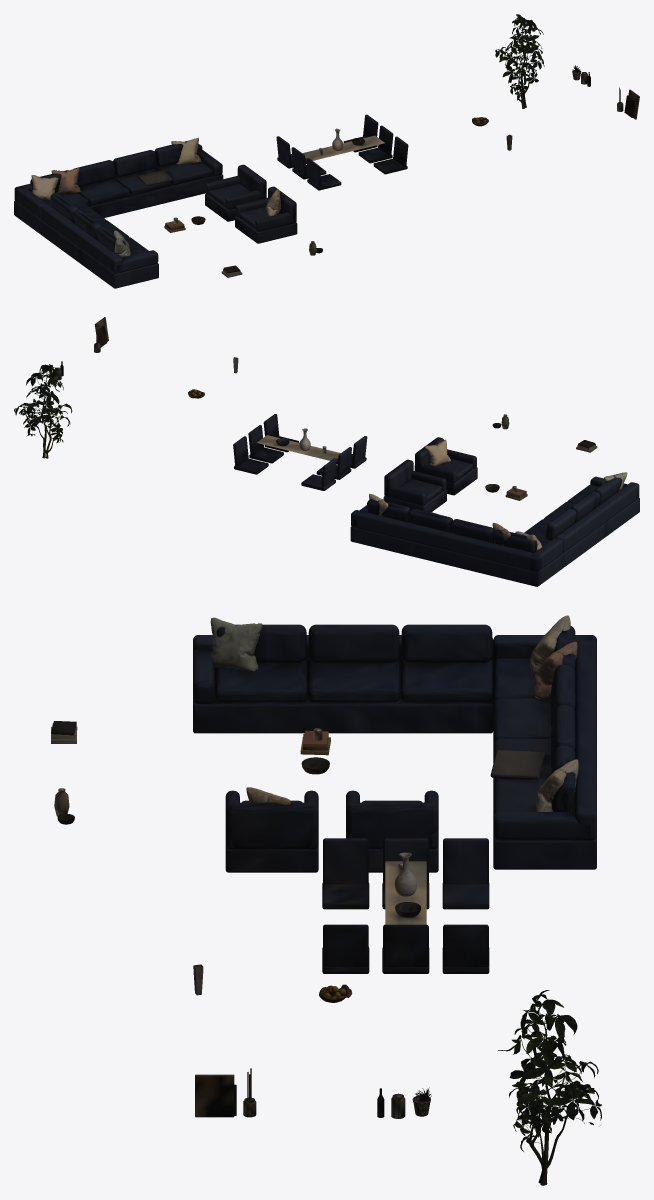
The model's file is decor-ldk.glb.
The picture shows the model from 3 angles, top to bottom: view 1: azimuth 30°, elevation 25°; view 2: azimuth 150°, elevation 25°; view 3: azimuth 270°, elevation 25°; orthographic projection. The views are drawn at different scales.
Visible parts, largest first — view 1: V|decor|ldk|wooden_bowl_01:a.004, V|decor|ldk|wooden_bowl_01:a.022, V|decor|ldk|wooden_bowl_01:a.003, V|decor|ldk|wooden_bowl_01:a.020; view 2: V|decor|ldk|wooden_bowl_01:a.004, V|decor|ldk|wooden_bowl_01:a.022, V|decor|ldk|wooden_bowl_01:a.003; view 3: V|decor|ldk|wooden_bowl_01:a.004, V|decor|ldk|wooden_bowl_01:a.022, V|decor|ldk|wooden_bowl_01:a.003, V|decor|ldk|wooden_bowl_01:a.021, V|decor|ldk|wooden_bowl_01:a.006, V|decor|ldk|wooden_bowl_01:a.011, V|decor|ldk|wooden_bowl_01:a.009, V|decor|ldk|wooden_bowl_01:a.008, V|decor|ldk|wooden_bowl_01:a.020, V|decor|ldk|wooden_bowl_01:a.001.
Boxes of the visible parts, x1=… form: V|decor|ldk|wooden_bowl_01:a.004: x1=14, y1=114, x2=408, y2=288; V|decor|ldk|wooden_bowl_01:a.022: x1=495, y1=14, x2=544, y2=100; V|decor|ldk|wooden_bowl_01:a.003: x1=31, y1=135, x2=384, y2=216; V|decor|ldk|wooden_bowl_01:a.020: x1=51, y1=168, x2=81, y2=193; V|decor|ldk|wooden_bowl_01:a.004: x1=233, y1=414, x2=639, y2=586; V|decor|ldk|wooden_bowl_01:a.022: x1=14, y1=364, x2=72, y2=443; V|decor|ldk|wooden_bowl_01:a.003: x1=257, y1=435, x2=542, y2=550; V|decor|ldk|wooden_bowl_01:a.004: x1=193, y1=624, x2=596, y2=973; V|decor|ldk|wooden_bowl_01:a.022: x1=498, y1=990, x2=601, y2=1151; V|decor|ldk|wooden_bowl_01:a.003: x1=246, y1=615, x2=578, y2=924; V|decor|ldk|wooden_bowl_01:a.021: x1=210, y1=617, x2=262, y2=671; V|decor|ldk|wooden_bowl_01:a.006: x1=195, y1=1068, x2=251, y2=1117; V|decor|ldk|wooden_bowl_01:a.011: x1=490, y1=750, x2=544, y2=779; V|decor|ldk|wooden_bowl_01:a.009: x1=57, y1=757, x2=421, y2=1117; V|decor|ldk|wooden_bowl_01:a.008: x1=54, y1=728, x2=405, y2=1118; V|decor|ldk|wooden_bowl_01:a.020: x1=533, y1=641, x2=577, y2=698; V|decor|ldk|wooden_bowl_01:a.001: x1=529, y1=1021, x2=575, y2=1185.
Bounding box in the file's own units: 11.12 × 1.9 × 5.05.
22 materials, 6 textured.
